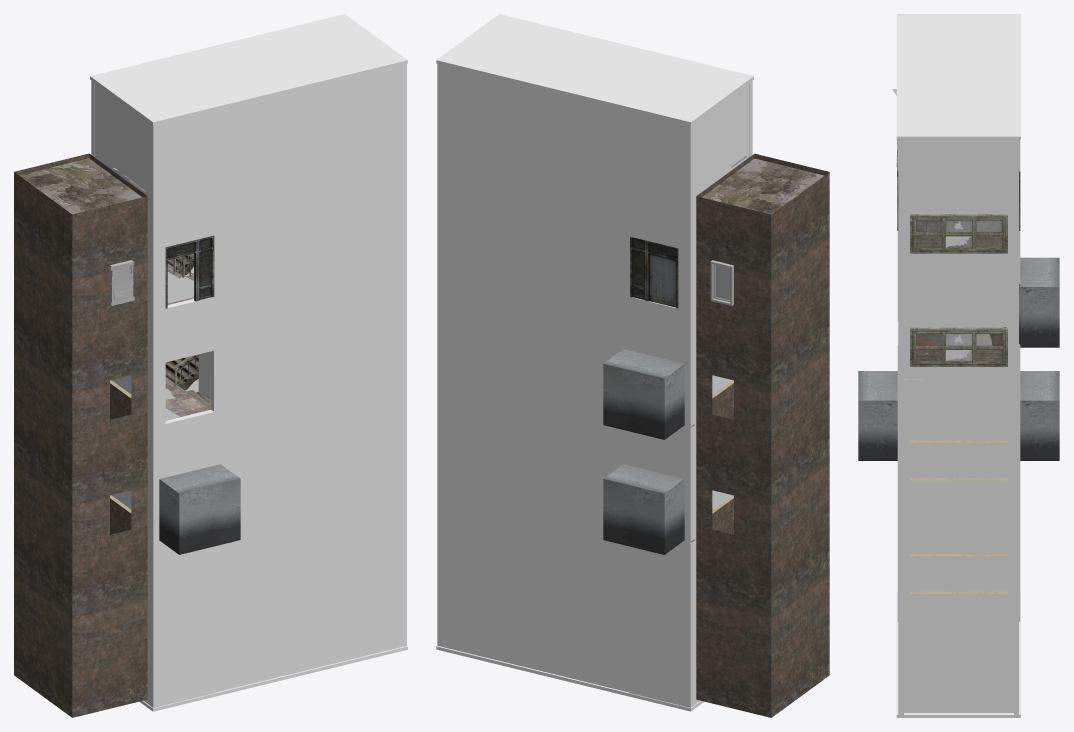
The model's file is Lobby.fbx.
3 views of the same model, side by side, from view 1: azimuth 30°, elevation 25°; view 2: azimuth 150°, elevation 25°; view 3: azimuth 270°, elevation 25° (orthographic).
Parts seen in each view (by area): view 1: Cube (61), ExtLobbyWall, Cube (77), Cube (74), Cube (71), IntClosedWall_Double, Cube (65), LobbyStructure, Cube (73), Cube (72), BigDoorFrame, Cube (78) (+5 smaller); view 2: Cube (62), ExtLobbyWall, Cube (77), Cube (68), Cube (63), IntClosedWall_Single, IntClosedWall_Double, Cube (65), LobbyStructure, Cube (66), Cube (67), BigDoorFrame (+5 smaller); view 3: Cube (64), Cube (77), LobbyWindowSet (×3), IntClosedWall_Double, IntClosedWall_Single, Cube (61), Cube (62), LobbyStructure, Cube (78), BrownBoardSmall_13, Cube (68), Cube (74).
Part boxes in pixels (x1,y1,x2,y2): Cube (61): (211,63,406,692); ExtLobbyWall: (14,153,147,717); Cube (77): (90,14,407,125); Cube (74): (150,478,214,707); Cube (71): (150,110,214,251); IntClosedWall_Double: (159,464,240,554); Cube (65): (94,83,149,704); LobbyStructure: (19,158,210,513); Cube (73): (150,409,214,480); Cube (72): (150,297,214,365); BigDoorFrame: (165,235,214,308); Cube (78): (139,646,407,711); Cube (62): (437,63,629,692); ExtLobbyWall: (696,153,829,717); Cube (77): (436,14,753,125); Cube (68): (629,467,693,707); Cube (63): (629,110,693,251); IntClosedWall_Single: (603,349,684,439); IntClosedWall_Double: (603,464,684,554); Cube (65): (694,83,749,704); LobbyStructure: (701,156,824,513); Cube (66): (629,296,693,365); Cube (67): (629,425,693,480); BigDoorFrame: (630,236,678,308); Cube (64): (904,139,1013,712); Cube (77): (896,14,1020,139); LobbyWindowSet (×3): (910,214,1007,366); IntClosedWall_Double: (858,371,1059,460); IntClosedWall_Single: (1019,257,1059,347); Cube (61): (898,139,903,714); Cube (62): (1014,139,1018,714); LobbyStructure: (910,213,1007,593); Cube (78): (896,592,1020,717); BrownBoardSmall_13: (916,334,941,361); Cube (68): (1019,397,1020,621); Cube (74): (897,398,898,621).
Size of what is drawn, in the model's own units: 15.55 by 26.2 by 8.23.
